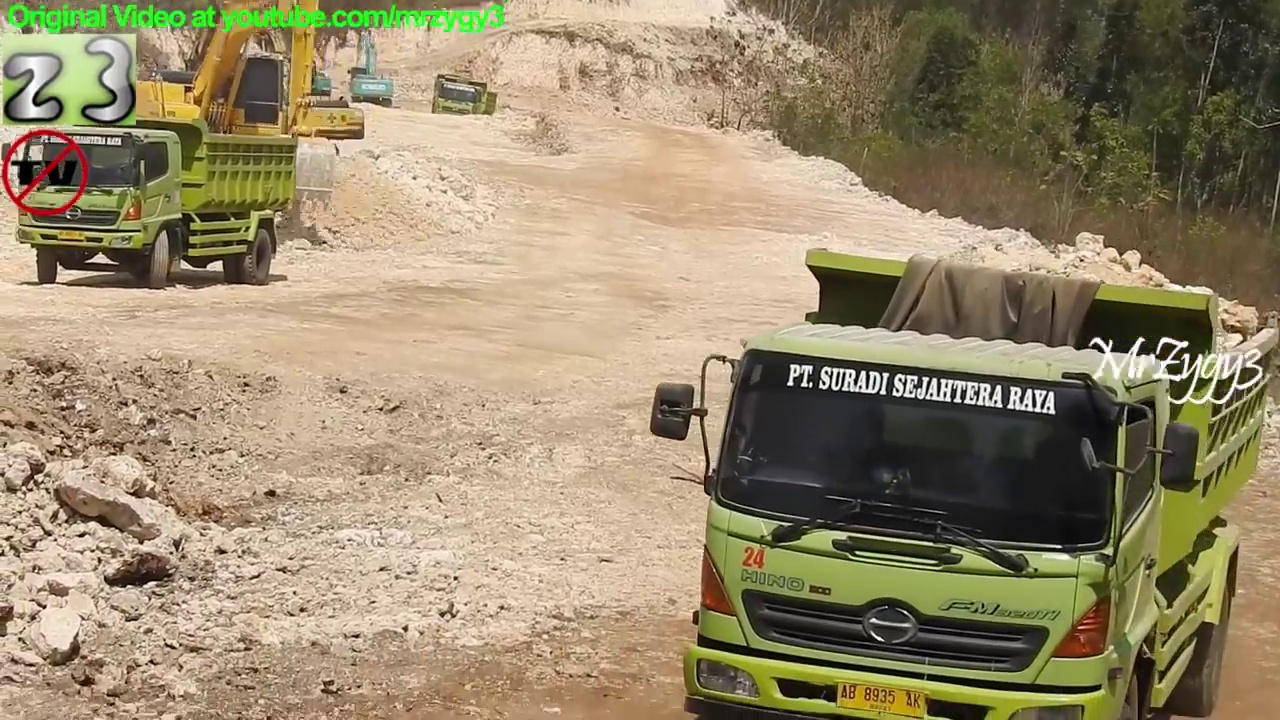excavator: (49, 1, 341, 216), (164, 1, 371, 158), (231, 1, 336, 107), (346, 6, 398, 113)
truck: (646, 243, 1280, 720), (2, 113, 300, 292), (433, 72, 499, 128)
